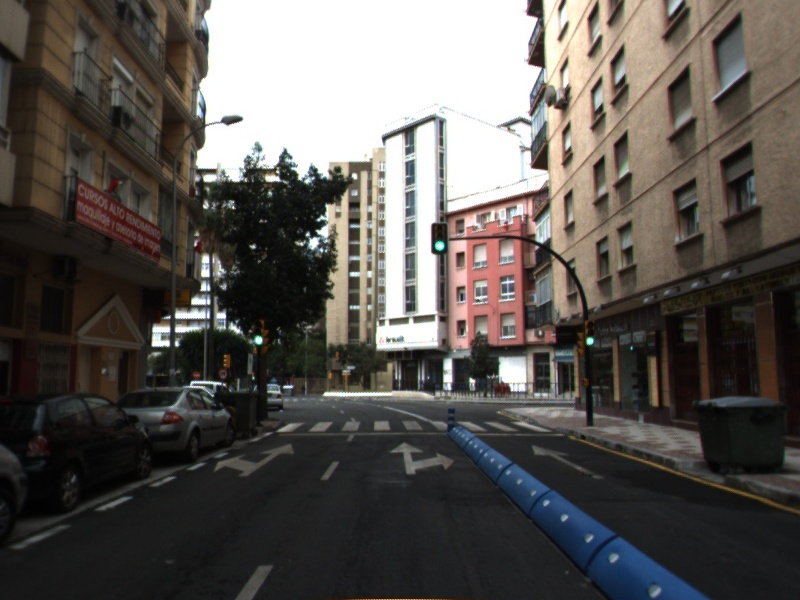STRAIGHT: (530, 443, 606, 481)
STRAIGHT_LEFT: (211, 442, 297, 479)
STRAIGHT_RIGHT: (387, 440, 457, 476)
